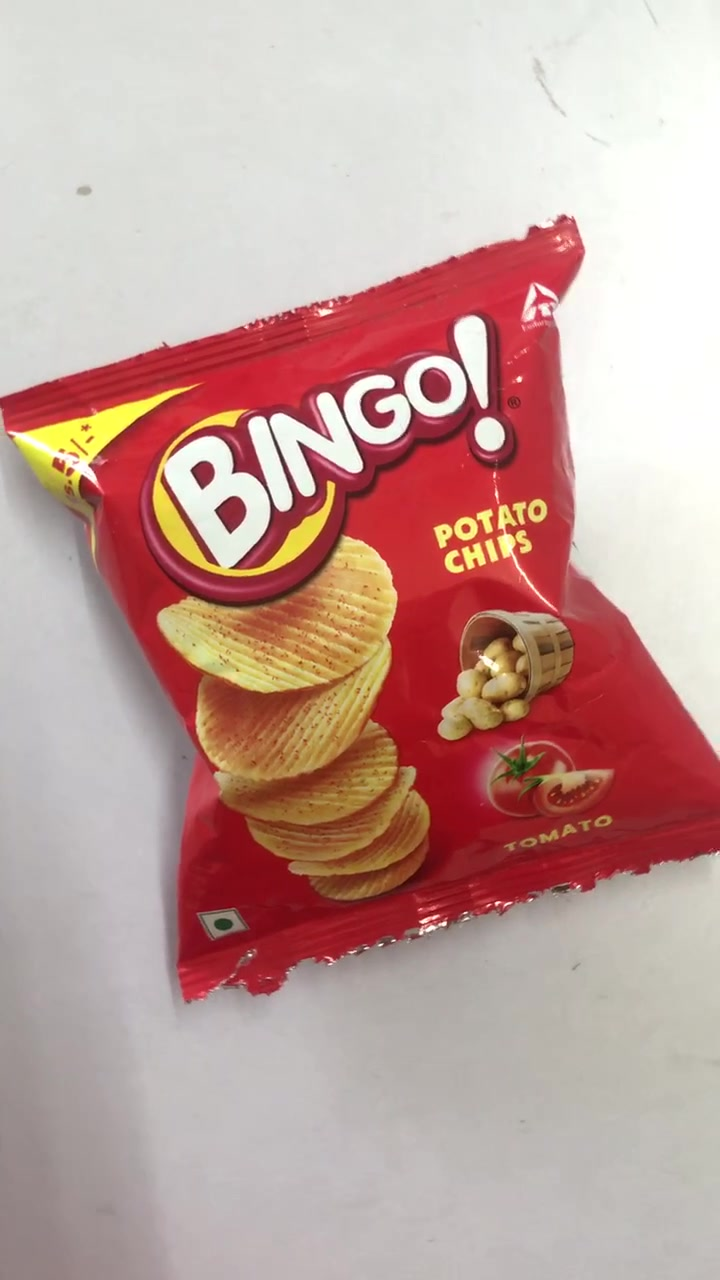Bingo: (37, 273, 720, 947)
